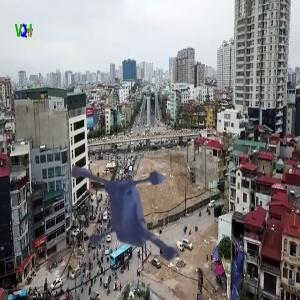drone: (72, 145, 222, 295)
